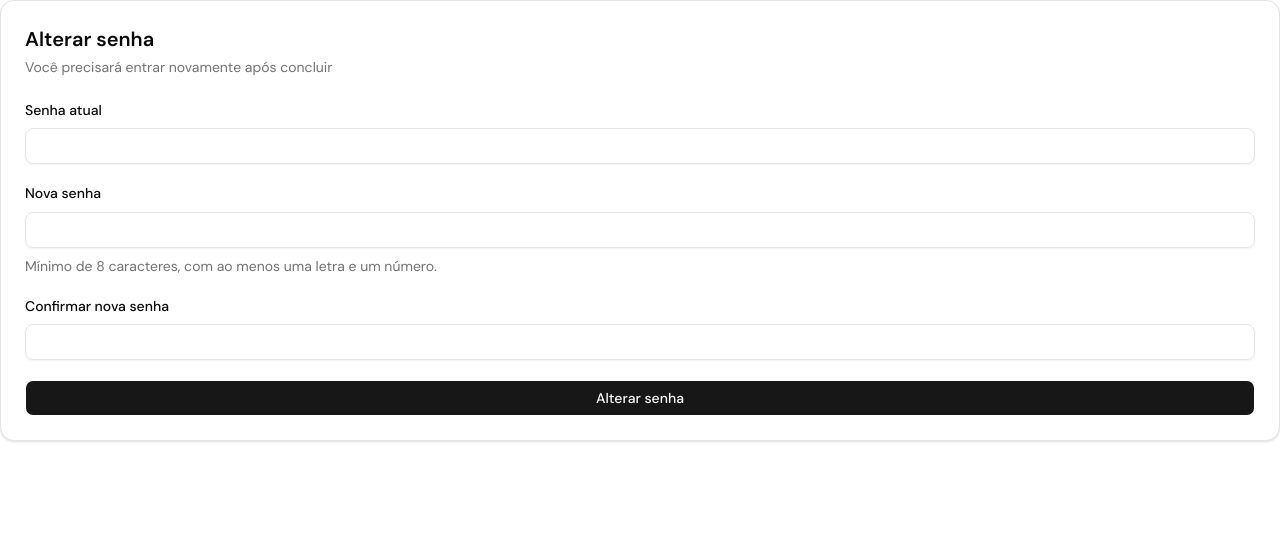
Test case: TrocarSenhaForm › validação client-side (Zod) › mostra mensagens inline quando os campos obrigatórios estão vazios
Click the button "Alterar senha" at (640, 398), box x1=25 y1=380 x2=1255 y2=416
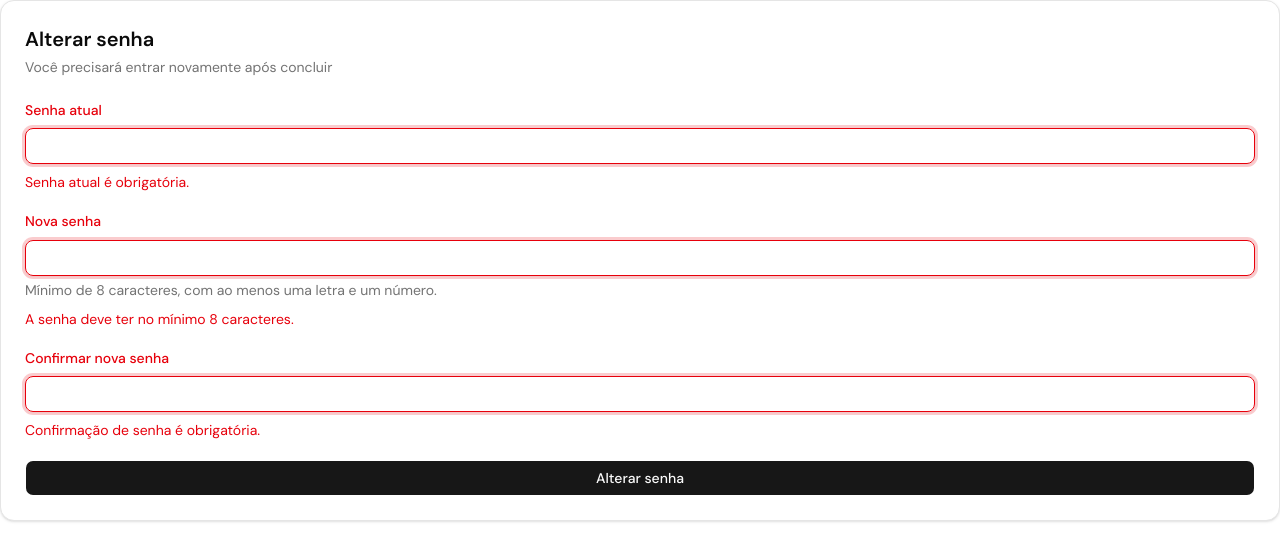
Expected: the text "Senha atual é obrigatória." is shown, x1=25 y1=173 x2=189 y2=191
Expected: the text "A senha deve ter no mínimo 8 caracteres." is shown, x1=25 y1=310 x2=294 y2=328
